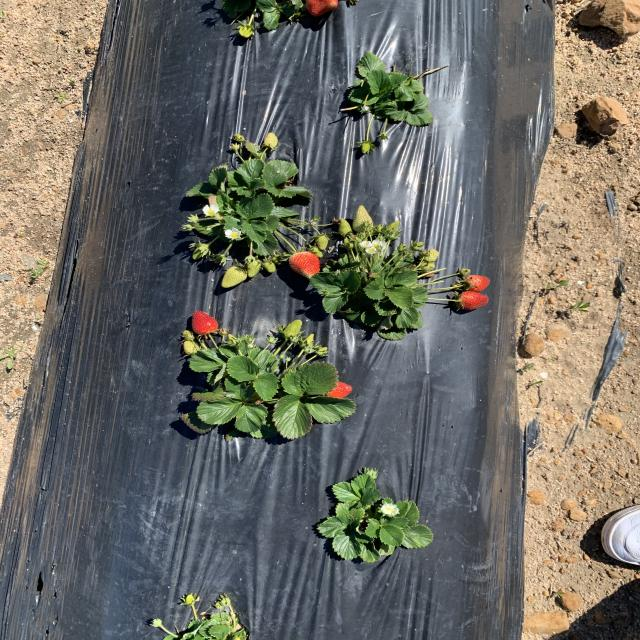unripe: (287, 251, 321, 279), (188, 308, 222, 336), (323, 379, 356, 402), (454, 292, 491, 309), (306, 0, 342, 14), (464, 274, 490, 291)
